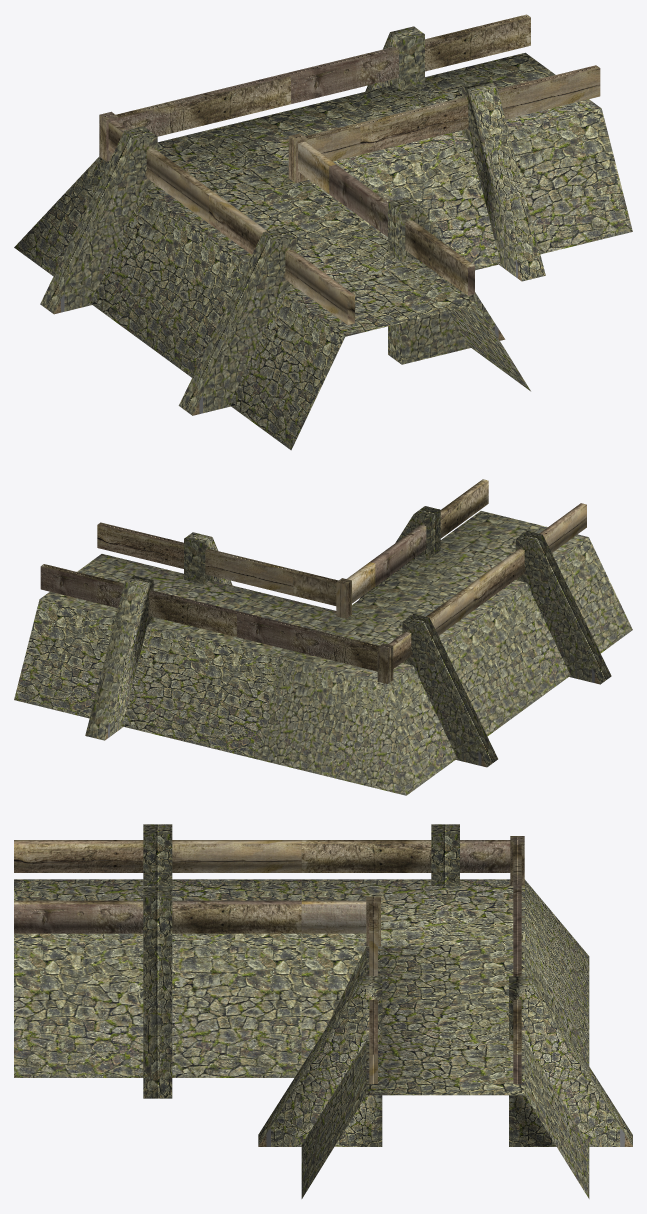
The model's file is L-Tile.fbx.
The picture shows the model from 3 angles, top to bottom: view 1: azimuth 30°, elevation 25°; view 2: azimuth 150°, elevation 25°; view 3: azimuth 270°, elevation 25°; orthographic projection. The views are drawn at different scales.
Parts seen in each view (by area): view 1: L-Tile; view 2: L-Tile; view 3: L-Tile.
Part boxes in pixels (x1,y1,x2,y2): L-Tile: [14, 14, 632, 450]; L-Tile: [14, 479, 632, 795]; L-Tile: [14, 824, 632, 1198].
Size of the model in its own units: 215 by 60.81 by 215.
